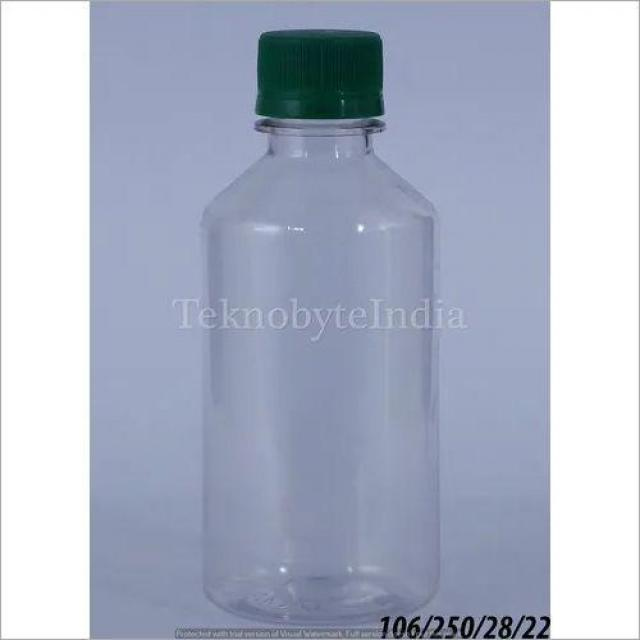plastic_bottle: (187, 31, 443, 615)
